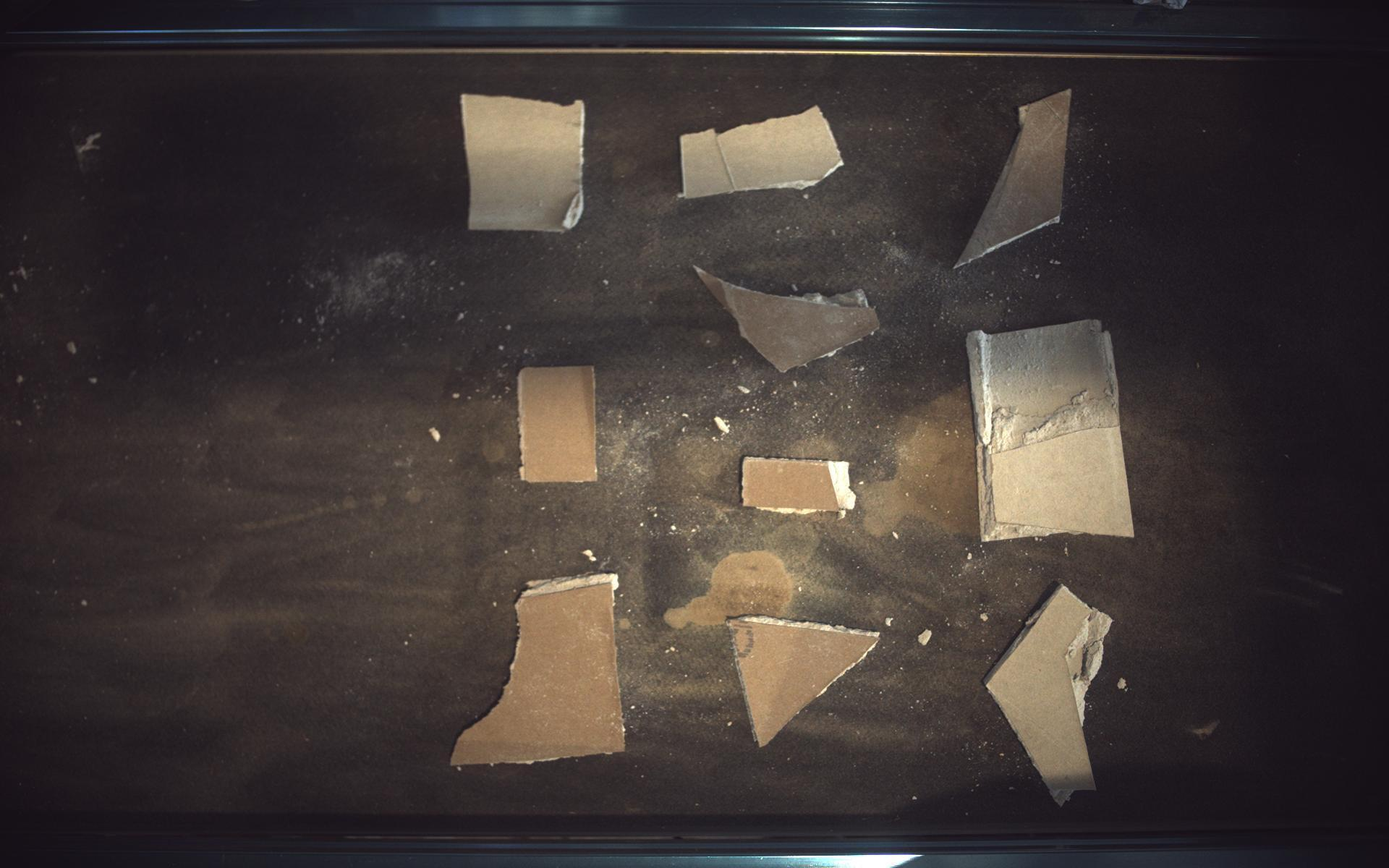gypsum_board: (969, 320, 1137, 542), (451, 574, 625, 767), (986, 584, 1115, 807), (959, 88, 1073, 267), (695, 266, 881, 372), (730, 617, 880, 748), (462, 93, 585, 231), (683, 104, 844, 197), (518, 367, 598, 482), (743, 459, 857, 517)
